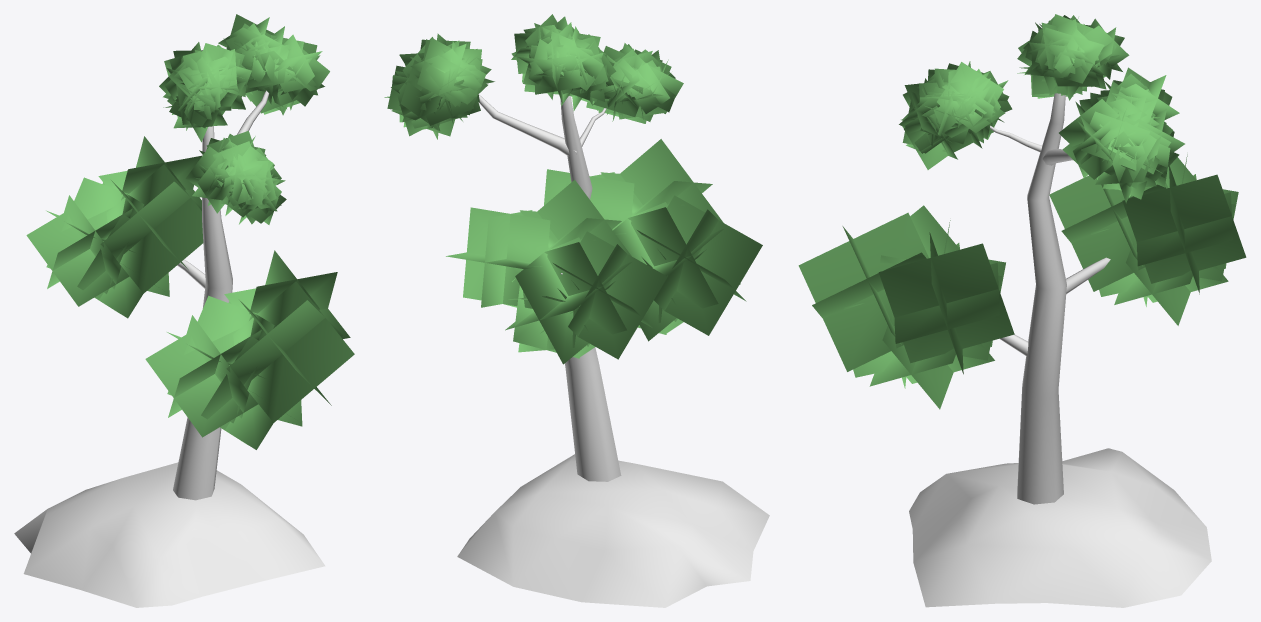
The model's file is Sappling.fbx.
3 renders of one model, left to right at view 1: azimuth 30°, elevation 25°; view 2: azimuth 150°, elevation 25°; view 3: azimuth 270°, elevation 25°, orthographic. The views are drawn at different scales.
Visible parts, largest first — view 1: Leaves, Dirt, Sappling; view 2: Leaves, Dirt, Sappling; view 3: Leaves, Dirt, Sappling.
Boxes of the visible parts, x1,y1,x2,y2 form: Leaves: (26, 14, 354, 449); Dirt: (14, 462, 325, 607); Sappling: (173, 90, 269, 500); Leaves: (384, 14, 762, 364); Dirt: (457, 454, 769, 607); Sappling: (478, 95, 621, 481); Leaves: (798, 14, 1246, 409); Dirt: (909, 448, 1211, 607); Sappling: (990, 93, 1110, 504).
Bounding box in the file's own units: 52.7 × 77.58 × 56.14.
